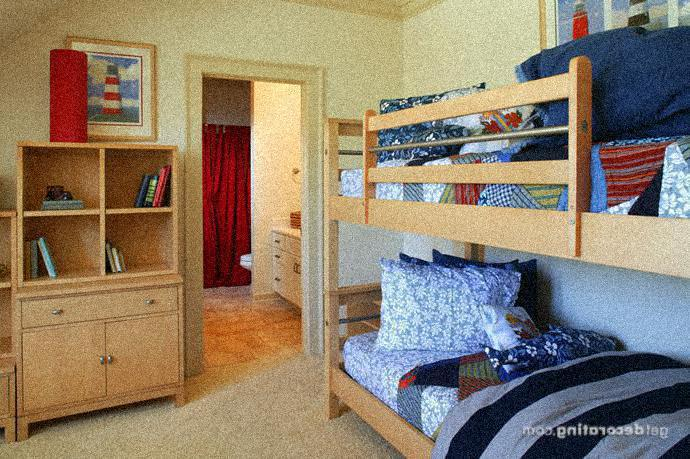Armario: (15, 141, 179, 438)
